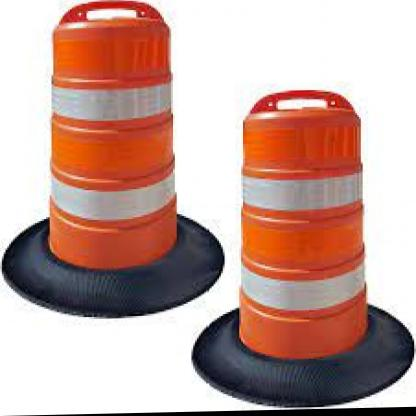obstacle: (41, 0, 184, 281), (239, 91, 372, 377)
